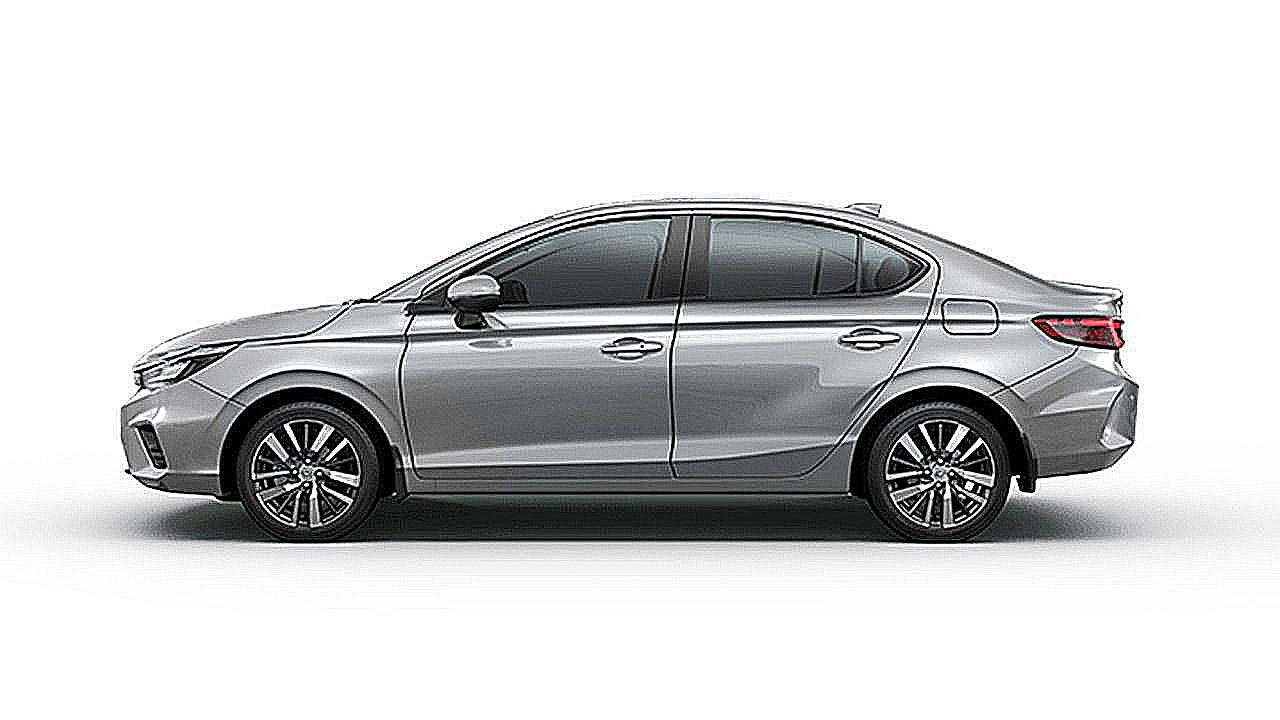Car hood: (127, 296, 356, 354)
Fender - -F-L-: (843, 255, 1082, 500), (192, 295, 419, 506)
Front bumper: (121, 389, 257, 513)
Headlight - -L-: (120, 334, 246, 398)
Passenger-s door - -F-L-: (402, 200, 677, 485)
Passenger-s door - -R-L-: (681, 202, 943, 482)
Rear bumper: (985, 345, 1143, 496)
Rear light - -L-: (1024, 296, 1135, 355)
Side bumper - -L-: (392, 464, 863, 513)
Side mirror - -L-: (437, 264, 511, 336)
